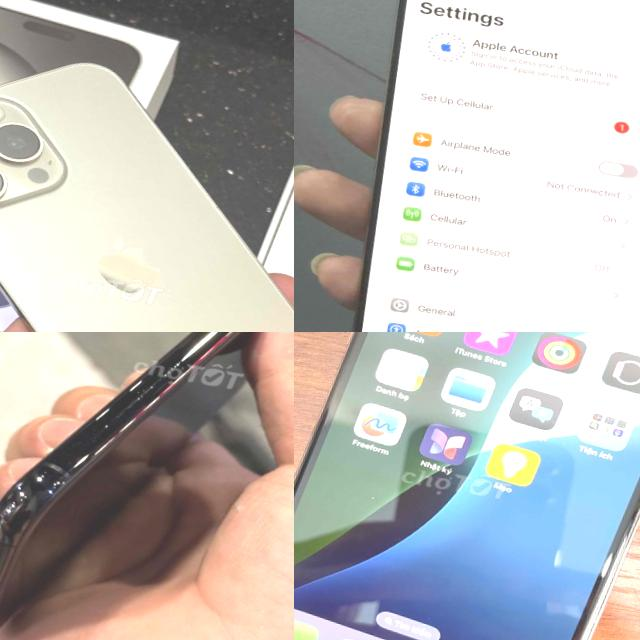gen_11: (0, 332, 294, 640)
gen_15: (316, 0, 640, 332)
gen_16: (0, 63, 294, 332)
gen_x_xs: (294, 332, 640, 640)
